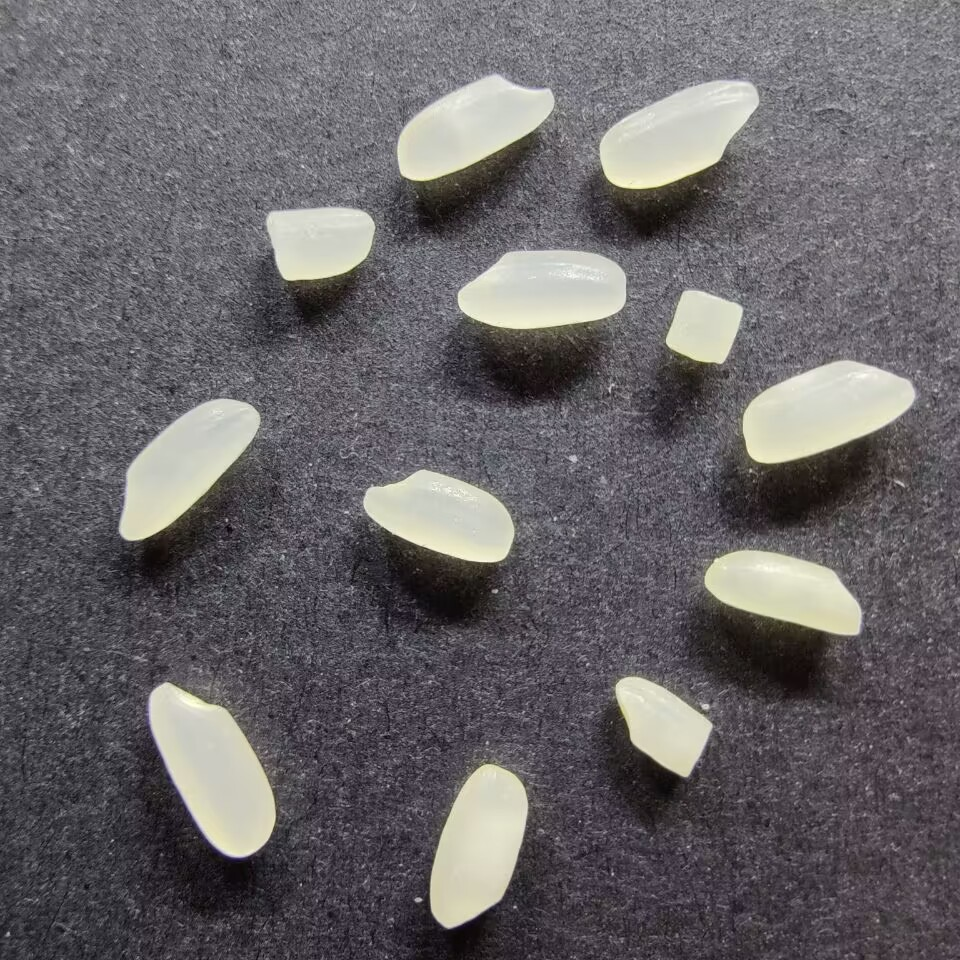broken: (612, 674, 715, 780), (264, 206, 376, 283), (664, 287, 744, 365)
rice: (145, 681, 279, 862), (115, 396, 261, 542), (741, 358, 917, 464), (393, 73, 558, 183), (599, 77, 760, 189), (426, 762, 529, 931), (361, 467, 513, 564), (703, 548, 865, 638), (454, 248, 630, 330)
